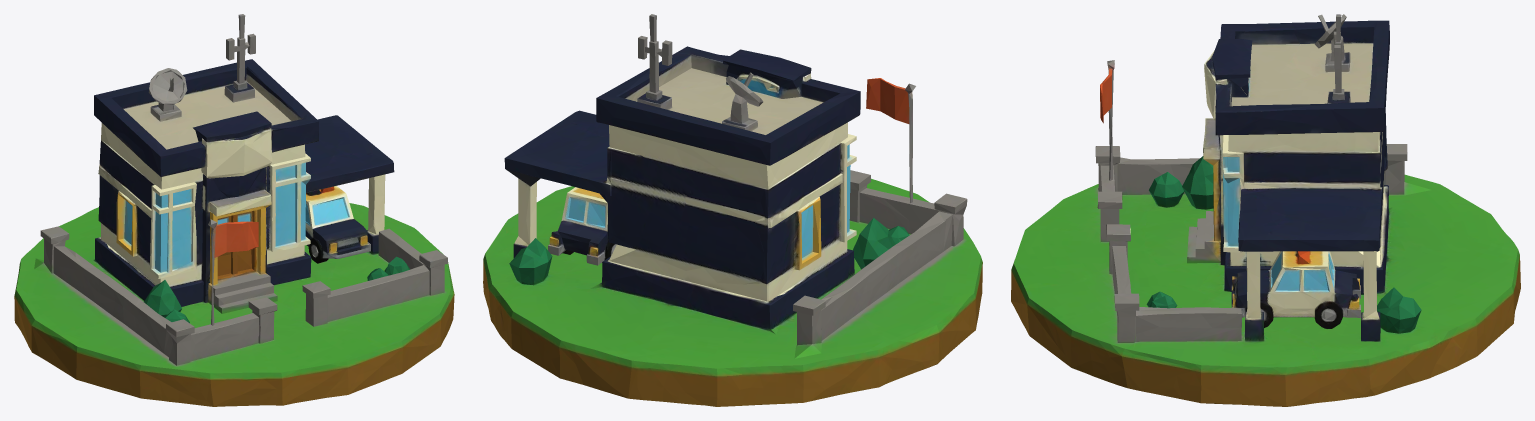
The model's file is rio-policia.glb.
3 renders of one model, left to right at view 1: azimuth 30°, elevation 25°; view 2: azimuth 150°, elevation 25°; view 3: azimuth 270°, elevation 25°, orthographic. The views are drawn at different scales.
Visible parts, largest first — view 1: tripo_node_dd603eae-7109-4c23-9455-262251be9041; view 2: tripo_node_dd603eae-7109-4c23-9455-262251be9041; view 3: tripo_node_dd603eae-7109-4c23-9455-262251be9041.
Part boxes in pixels (x1,y1,x2,y2): tripo_node_dd603eae-7109-4c23-9455-262251be9041: (14,14,454,406); tripo_node_dd603eae-7109-4c23-9455-262251be9041: (483,14,982,406); tripo_node_dd603eae-7109-4c23-9455-262251be9041: (1011,14,1520,406).
Bounding box in the file's own units: 0.999 × 0.676 × 1.
Materials: 1 (1 with a texture image).
